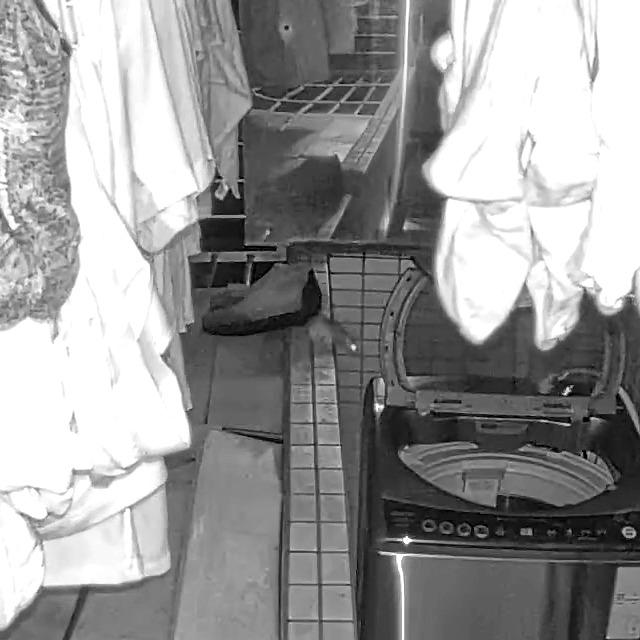rat: (261, 314, 360, 358)
